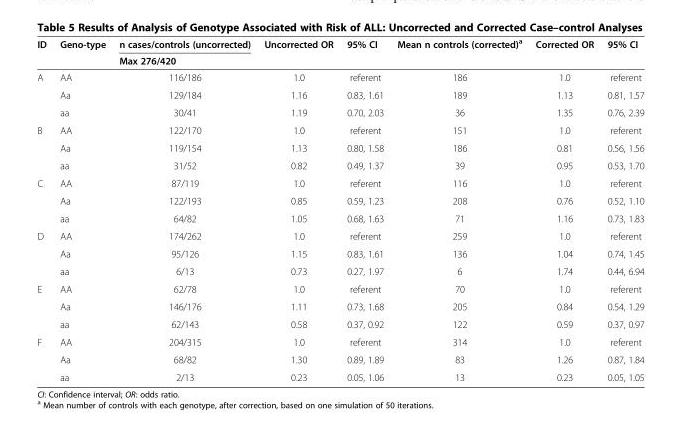table: (36, 36, 643, 382)
table column: (111, 36, 256, 382), (389, 36, 528, 382), (256, 36, 339, 382), (528, 36, 599, 382), (52, 36, 111, 382), (339, 36, 389, 382), (599, 36, 643, 382), (36, 36, 52, 382)
table column header: (36, 36, 643, 68)
table row: (36, 85, 643, 103), (36, 103, 643, 121), (36, 138, 643, 156), (36, 156, 643, 174), (36, 191, 643, 209), (36, 226, 643, 244), (36, 244, 643, 262), (36, 279, 643, 297), (36, 297, 643, 315), (36, 332, 643, 350), (36, 350, 643, 368), (36, 68, 643, 85), (36, 121, 643, 138), (36, 174, 643, 191), (36, 209, 643, 226), (36, 262, 643, 279), (36, 315, 643, 332), (36, 36, 643, 52), (36, 52, 643, 68), (36, 368, 643, 382)
table spanning cell: (111, 36, 256, 68), (389, 36, 528, 68), (256, 36, 339, 68), (528, 36, 599, 68), (52, 36, 111, 68), (339, 36, 389, 68), (599, 36, 643, 68), (36, 68, 52, 121), (36, 121, 52, 174), (36, 226, 52, 279), (36, 279, 52, 332), (36, 174, 52, 226), (36, 332, 52, 382), (36, 36, 52, 68)
